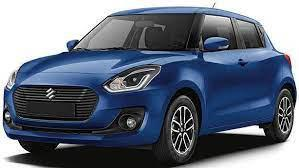Hatchback: (1, 6, 297, 167)
